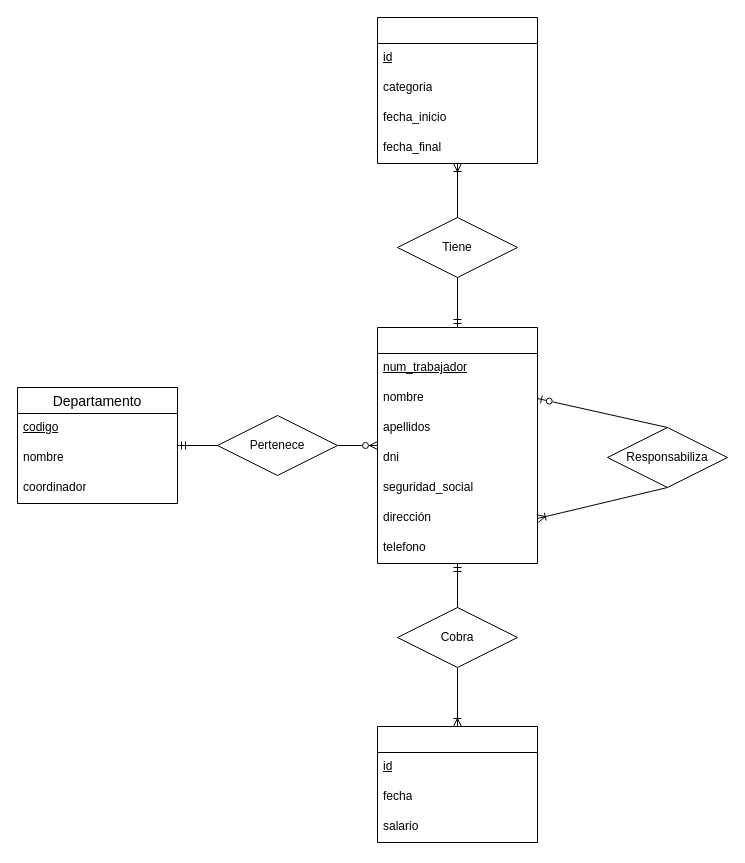
Image size: 745x863. Some labels were removed from this diagram. The shapes that lost their labels are listed below. From the top down, each one's box as (x1, y1, x2, y2) in pixels, then its label:
(376, 16, 538, 164): Contrato
(376, 326, 538, 564): Empleado
(376, 726, 538, 842): Nomina
